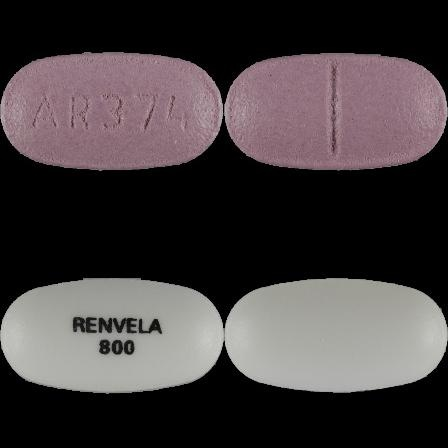69189-0119: (0, 0, 224, 224)
